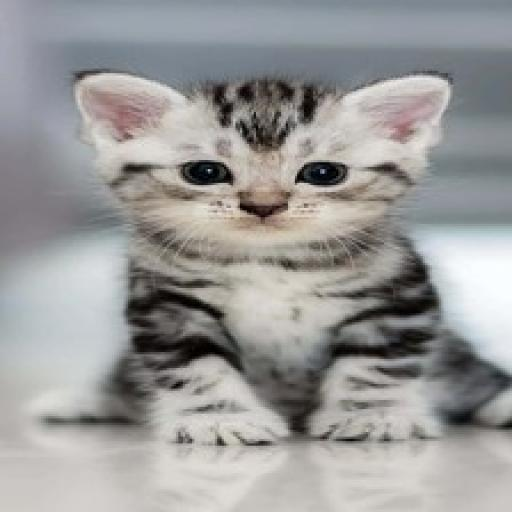cat: (21, 42, 510, 461)
